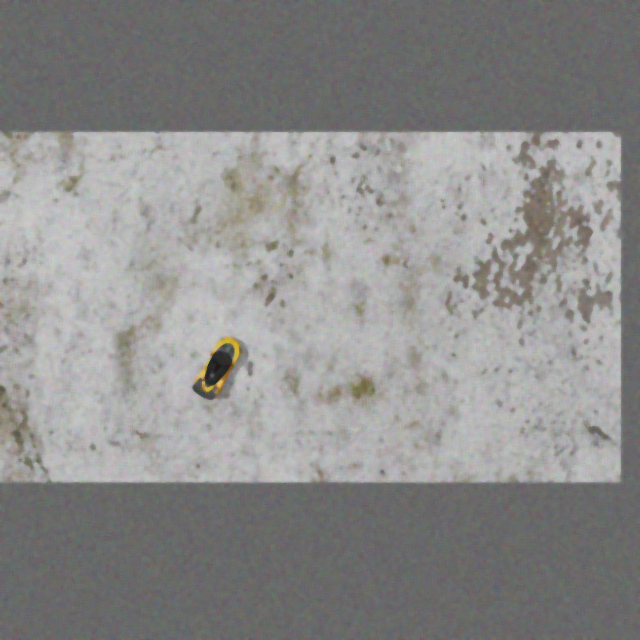car: (188, 331, 248, 404)
